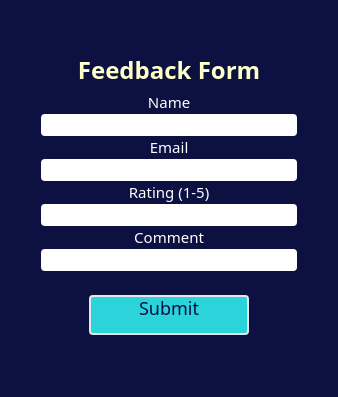
Validation › should display an error message if name field is inputted incorrectly
Step 1. Type "33" into the field with test id "name" → (169, 125), box [41,114,297,136]
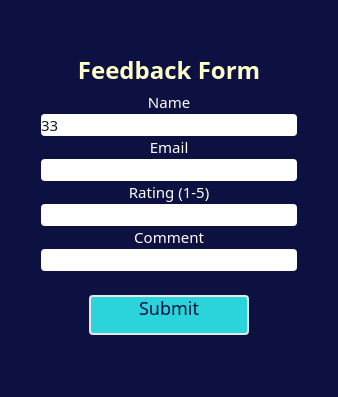
Step 2. Submit the form from the button, box [89,271,249,335]
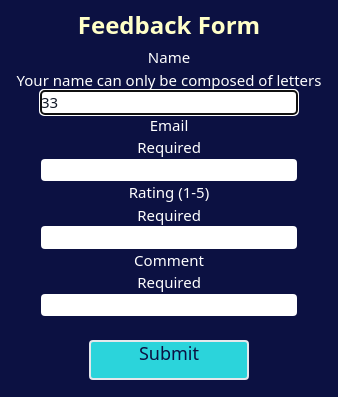
Result: the text "Your name can only be composed of letters" is shown at [16,68,321,91]
